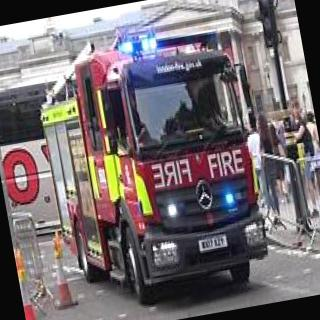Fire_truck: (25, 9, 278, 318)
